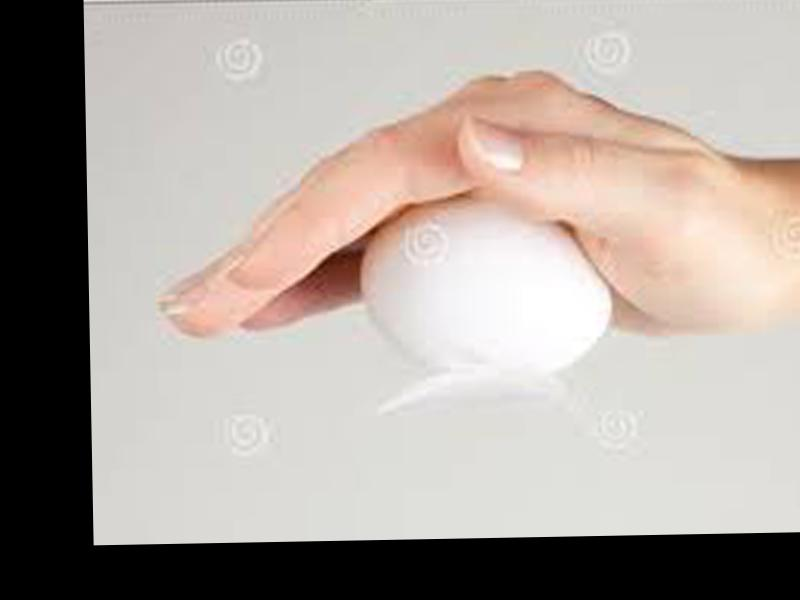Eggs: (355, 196, 615, 375)
